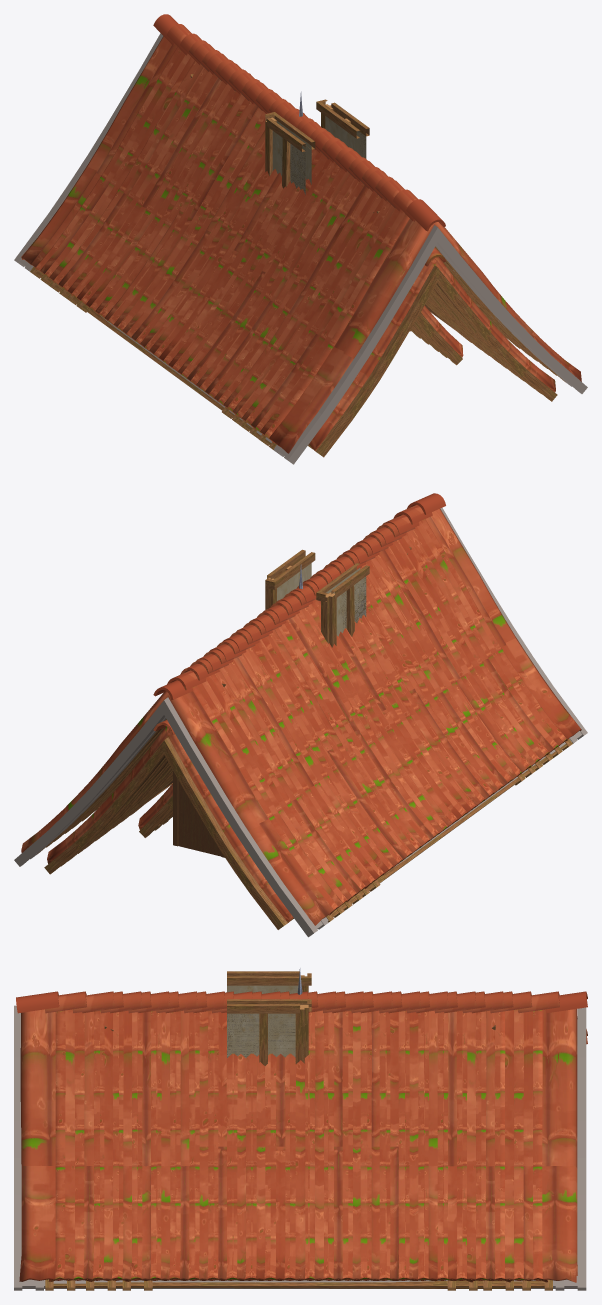
Rendered from village.glb.
3 renders of one model, top to bottom at view 1: azimuth 30°, elevation 25°; view 2: azimuth 150°, elevation 25°; view 3: azimuth 270°, elevation 25°, orthographic. The views are drawn at different scales.
Visible parts, largest first — view 1: Roof_RoundTiles_8x14, Roof_RoundTiles_8x12, Roof_RoundTiles_8x10, Roof_RoundTiles_6x14, Roof_RoundTiles_8x8, Overhang_Side_Plaster_Long_L, Overhang_Side_Plaster_Long_R, Roof_RoundTiles_4x8, Overhang_Side_Plaster_Short_L; view 2: Roof_RoundTiles_8x14, Roof_RoundTiles_8x10, Roof_RoundTiles_8x12, Roof_RoundTiles_8x8, Roof_RoundTiles_6x14, Stair_Interior_SolidExtended, Overhang_Side_Plaster_Long_L, Overhang_Side_Plaster_Long_R, Overhang_Side_Plaster_Short_L, Roof_RoundTiles_4x8; view 3: Roof_RoundTiles_8x14, Roof_RoundTiles_8x12, Roof_RoundTiles_8x10, Roof_RoundTiles_8x8, Overhang_Side_Plaster_Long_R, Overhang_Side_Plaster_Long_L, Overhang_Side_Plaster_Short_R, Overhang_Side_UnevenBrick_Long_R.
Part boxes in pixels (x1,y1,x2,y2): Roof_RoundTiles_8x14: (14, 14, 587, 464); Roof_RoundTiles_8x12: (30, 24, 565, 449); Roof_RoundTiles_8x10: (48, 40, 547, 438); Roof_RoundTiles_6x14: (308, 248, 557, 457); Roof_RoundTiles_8x8: (66, 50, 529, 424); Overhang_Side_Plaster_Long_L: (265, 112, 315, 194); Overhang_Side_Plaster_Long_R: (316, 100, 369, 158); Roof_RoundTiles_4x8: (413, 305, 463, 365); Overhang_Side_Plaster_Short_L: (265, 114, 293, 188); Roof_RoundTiles_8x14: (14, 493, 587, 937); Roof_RoundTiles_8x10: (54, 523, 553, 910); Roof_RoundTiles_8x12: (36, 505, 572, 922); Roof_RoundTiles_8x8: (72, 533, 535, 896); Roof_RoundTiles_6x14: (44, 720, 293, 929); Stair_Interior_SolidExtended: (173, 771, 224, 857); Overhang_Side_Plaster_Long_L: (316, 563, 369, 647); Overhang_Side_Plaster_Long_R: (265, 549, 315, 609); Overhang_Side_Plaster_Short_L: (317, 576, 354, 645); Roof_RoundTiles_4x8: (138, 783, 172, 837); Roof_RoundTiles_8x14: (14, 991, 587, 1290); Roof_RoundTiles_8x12: (45, 991, 559, 1290); Roof_RoundTiles_8x10: (82, 991, 513, 1290); Roof_RoundTiles_8x8: (122, 991, 485, 1290); Overhang_Side_Plaster_Long_R: (227, 999, 311, 1065); Overhang_Side_Plaster_Long_L: (227, 971, 311, 993); Overhang_Side_Plaster_Short_R: (259, 999, 311, 1064); Overhang_Side_UnevenBrick_Long_R: (227, 1014, 295, 1057).
Bounding box in the file's own units: 9.95 × 8.91 × 15.71.
10 materials, 9 textured.
